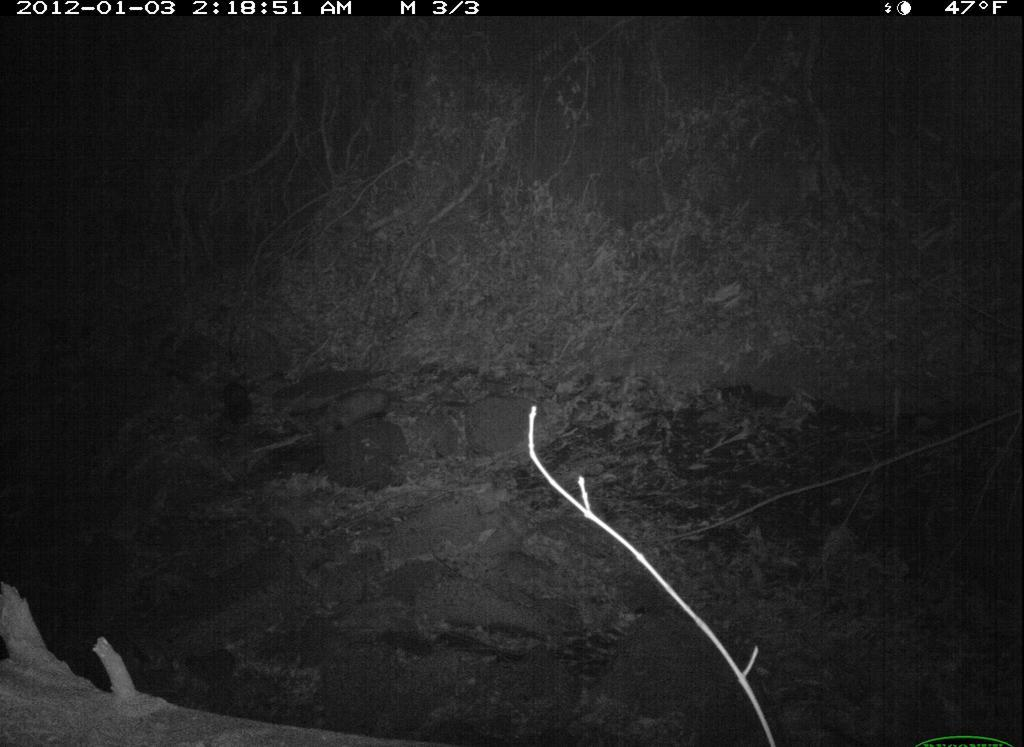opossum: (309, 387, 404, 433)
